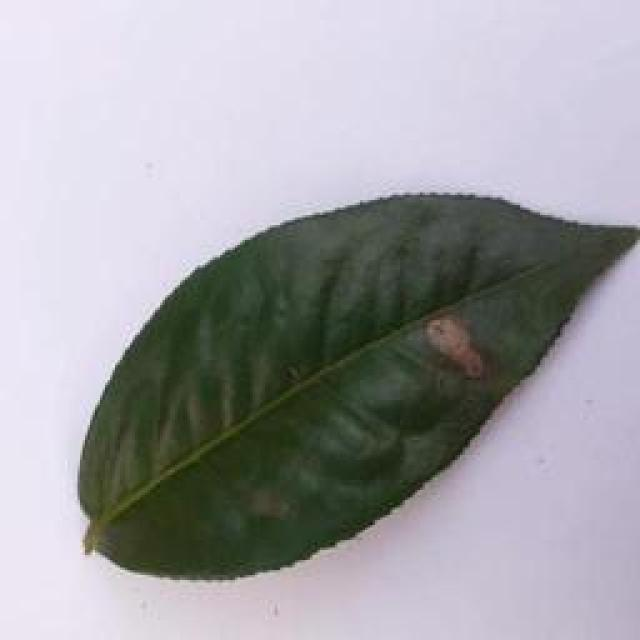Gray Blight: (69, 194, 640, 584)
